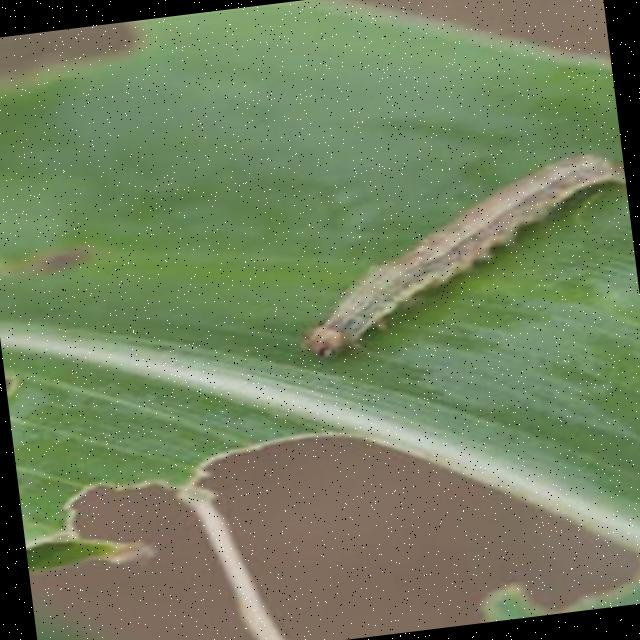worm: (283, 146, 640, 363)
